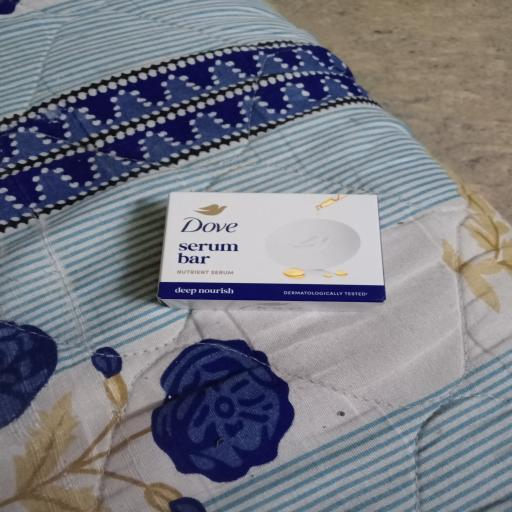Dove`1: (145, 187, 410, 311)
